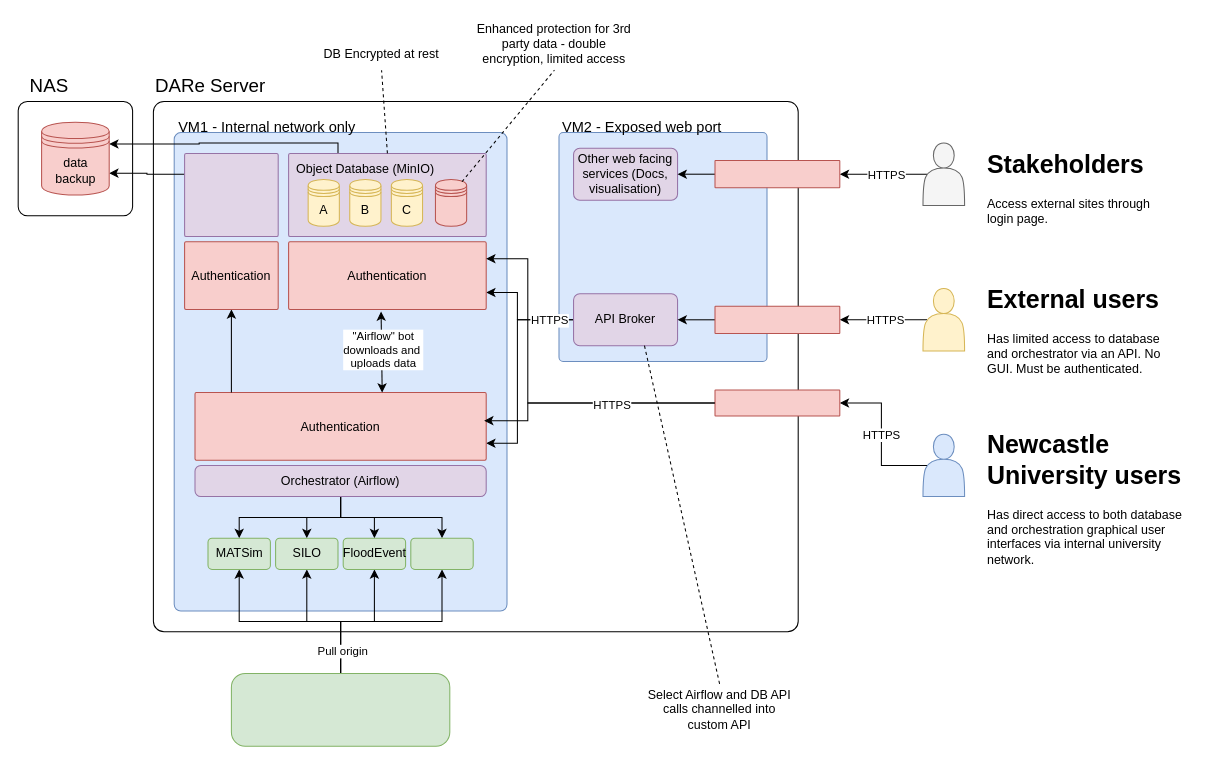
This 1212x764 diagram has some shape labels left out. Here are the shapes that lost their labels. From the top down, the centre of each, then its label:
point (231, 194): Metadata DB (PostgreSQL)
point (777, 174): Login
point (450, 202): 3rd
point (777, 319): 2FA
point (777, 402): NCL Auth
point (441, 553): MITO
point (340, 709): GitHub - Open Code
